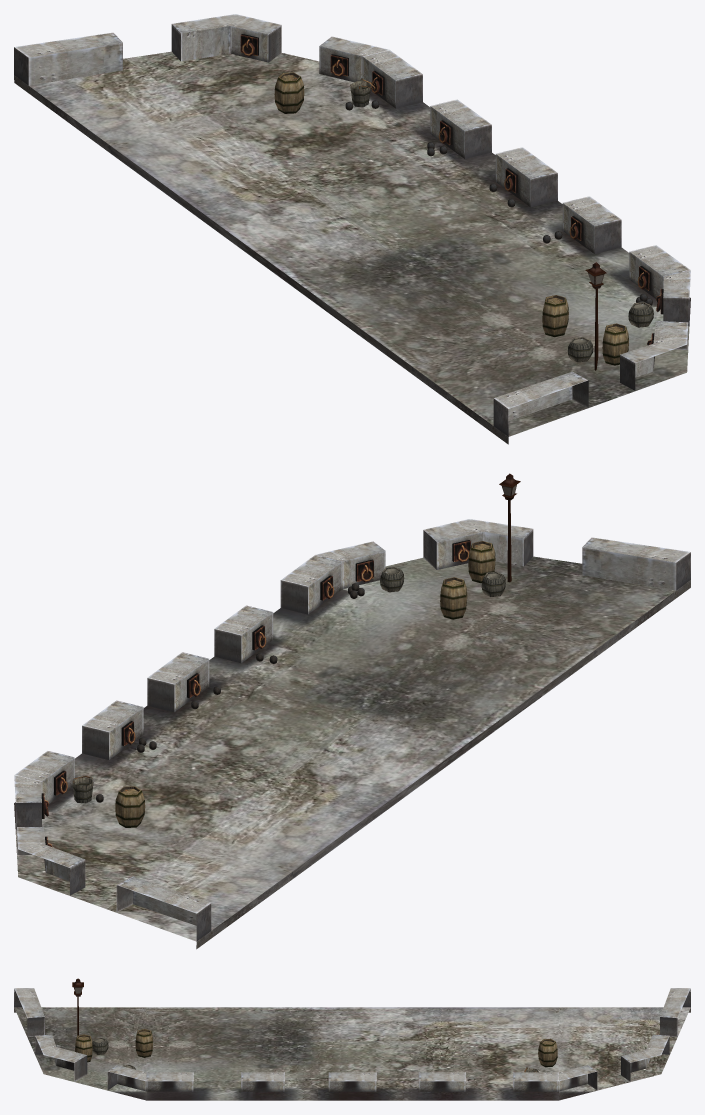
The model's file is pir_m_gam_can_cannonOverlay_padresDelFuego.fbx.
3 views of the same model, one above another, from view 1: azimuth 30°, elevation 25°; view 2: azimuth 150°, elevation 25°; view 3: azimuth 270°, elevation 25° (orthographic). The views are drawn at different scales.
Parts seen in each view (by area): view 1: base, barrel_worn_1, barrel_worn_3, barrel_worn_2; view 2: base, barrel_worn_1, barrel_worn_3, barrel_worn_2; view 3: base, barrel_worn_1, barrel_worn_3, barrel_worn_2, barrel1.
Part boxes in pixels (<box>): base: <box>14,14,690,444</box>; barrel_worn_1: <box>274,72,304,113</box>; barrel_worn_3: <box>542,295,568,337</box>; barrel_worn_2: <box>602,323,628,365</box>; base: <box>14,519,690,949</box>; barrel_worn_1: <box>115,786,145,827</box>; barrel_worn_3: <box>440,577,467,619</box>; barrel_worn_2: <box>468,541,495,583</box>; base: <box>14,988,690,1100</box>; barrel_worn_1: <box>538,1038,557,1067</box>; barrel_worn_3: <box>135,1029,153,1057</box>; barrel_worn_2: <box>75,1034,92,1062</box>; barrel1: <box>92,1037,108,1054</box>.
Bounding box in the file's own units: 3690 × 1463 × 11318.
Materials: 3 (3 with a texture image).
